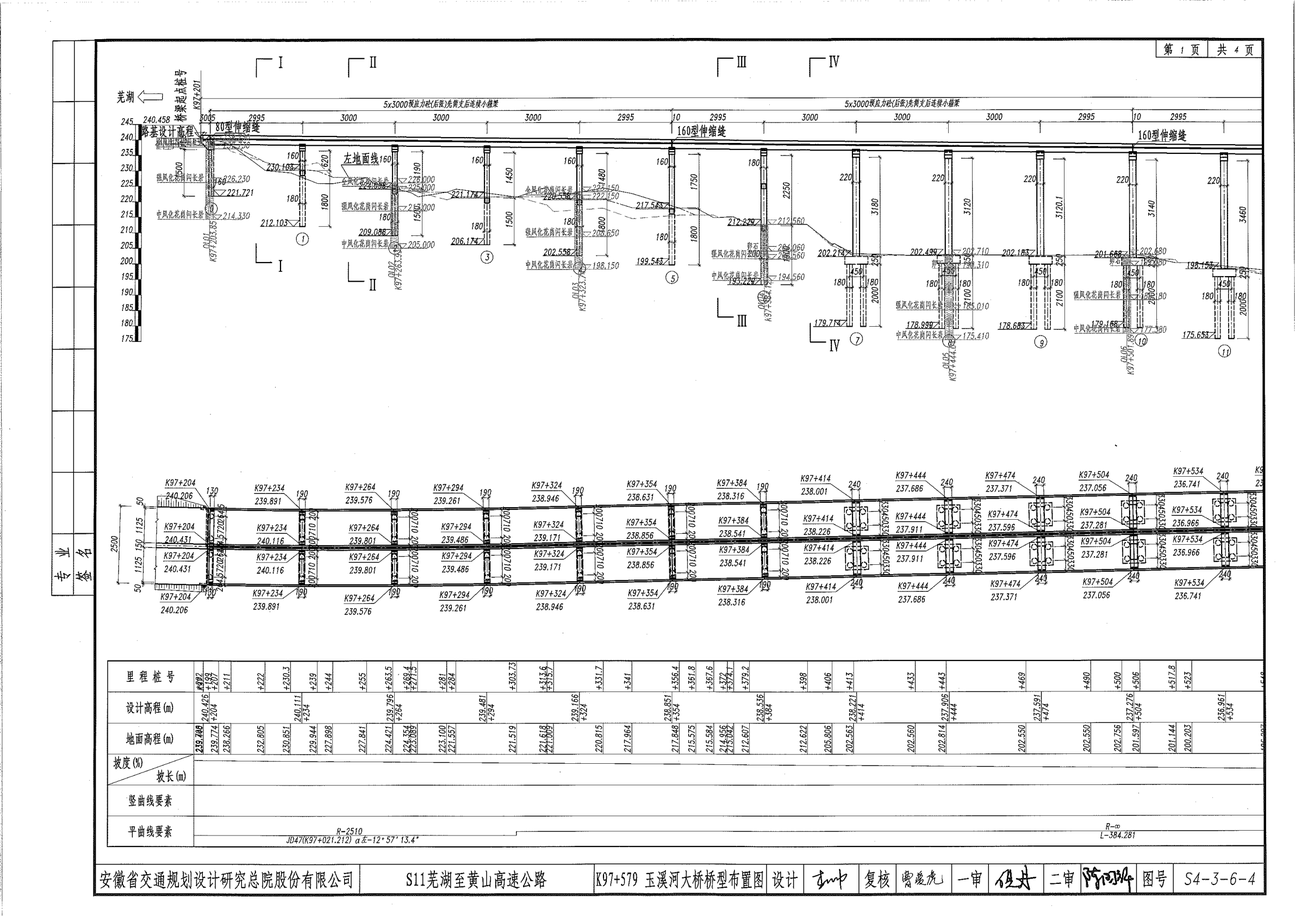A: (112, 53, 1280, 369)
